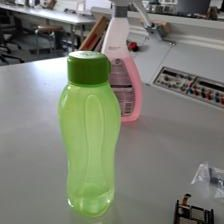bottle: (58, 49, 121, 216)
